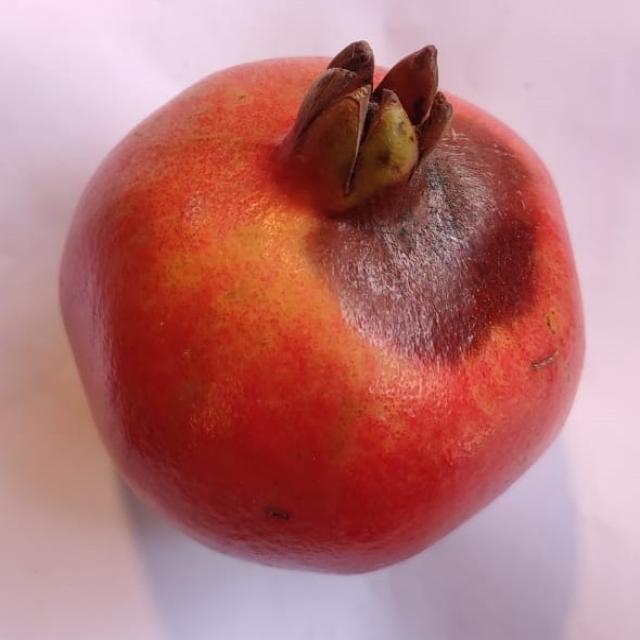Rotten: (52, 44, 590, 575)
